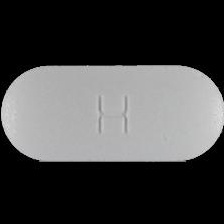0179-0095: (0, 0, 224, 224)
